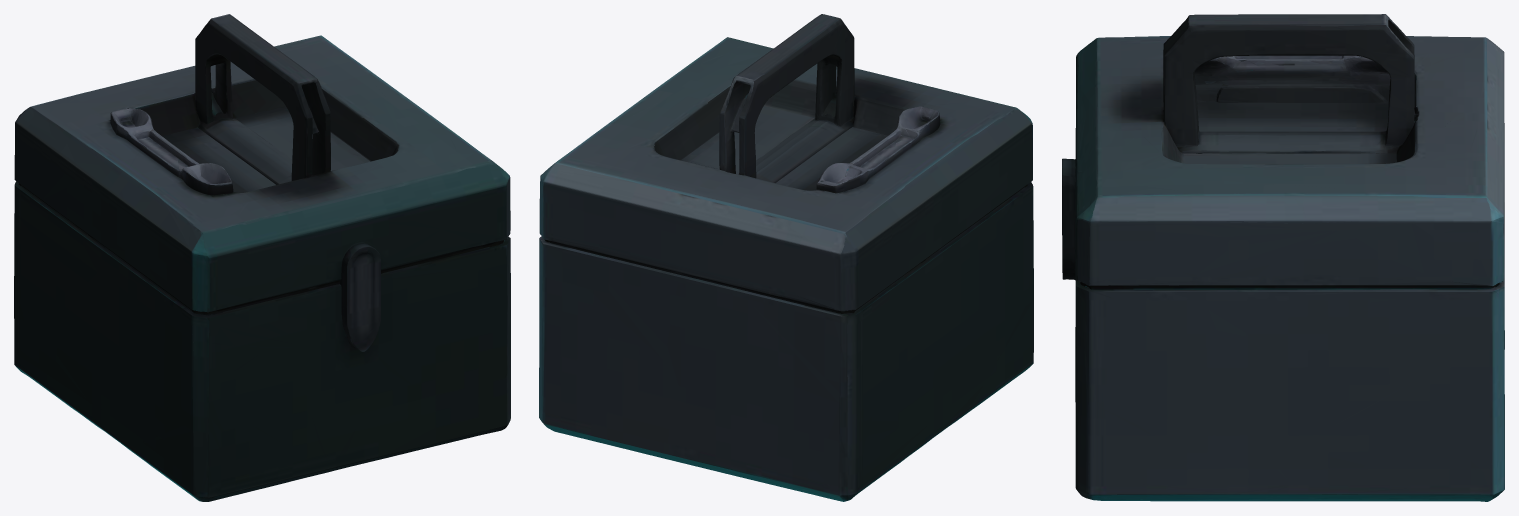
The model's file is ferramenta.glb.
3 views of the same model, side by side, from view 1: azimuth 30°, elevation 25°; view 2: azimuth 150°, elevation 25°; view 3: azimuth 270°, elevation 25° (orthographic). The views are drawn at different scales.
Size of the model in its own units: 0.9268 by 0.9951 by 0.9909.
Materials: 1 (1 with a texture image).
